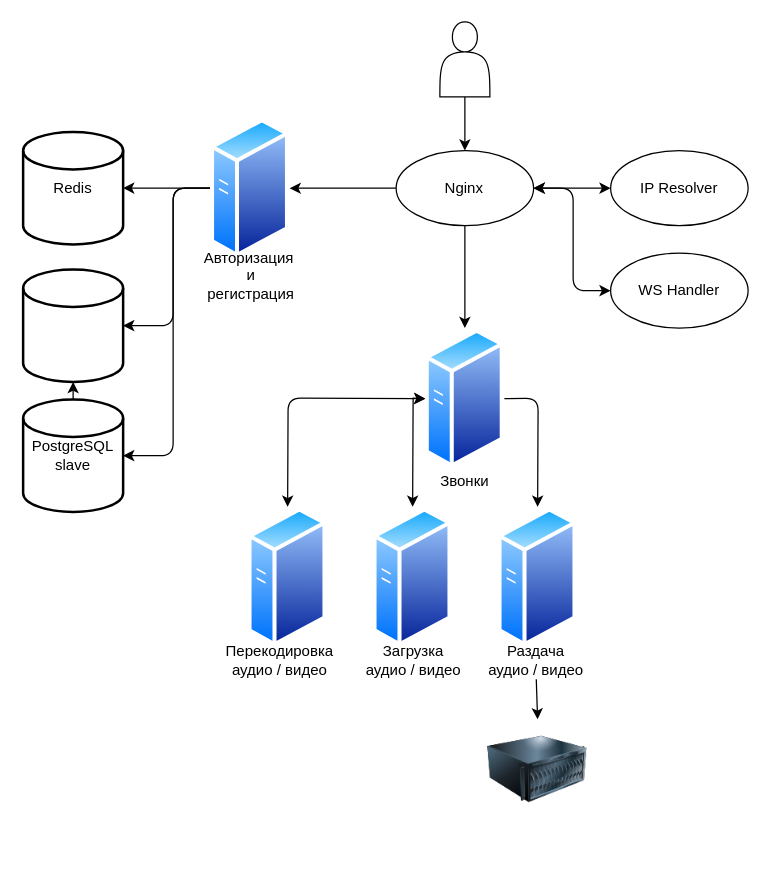
This 770x886 diagram has some shape labels left out. Here are the shapes that lost their labels. From the top down, the centre of each, then its label:
At point 464,59: "User".
At point 72,325: "PostgreSQL master".
At point 537,769: "Физическое хранилище".
